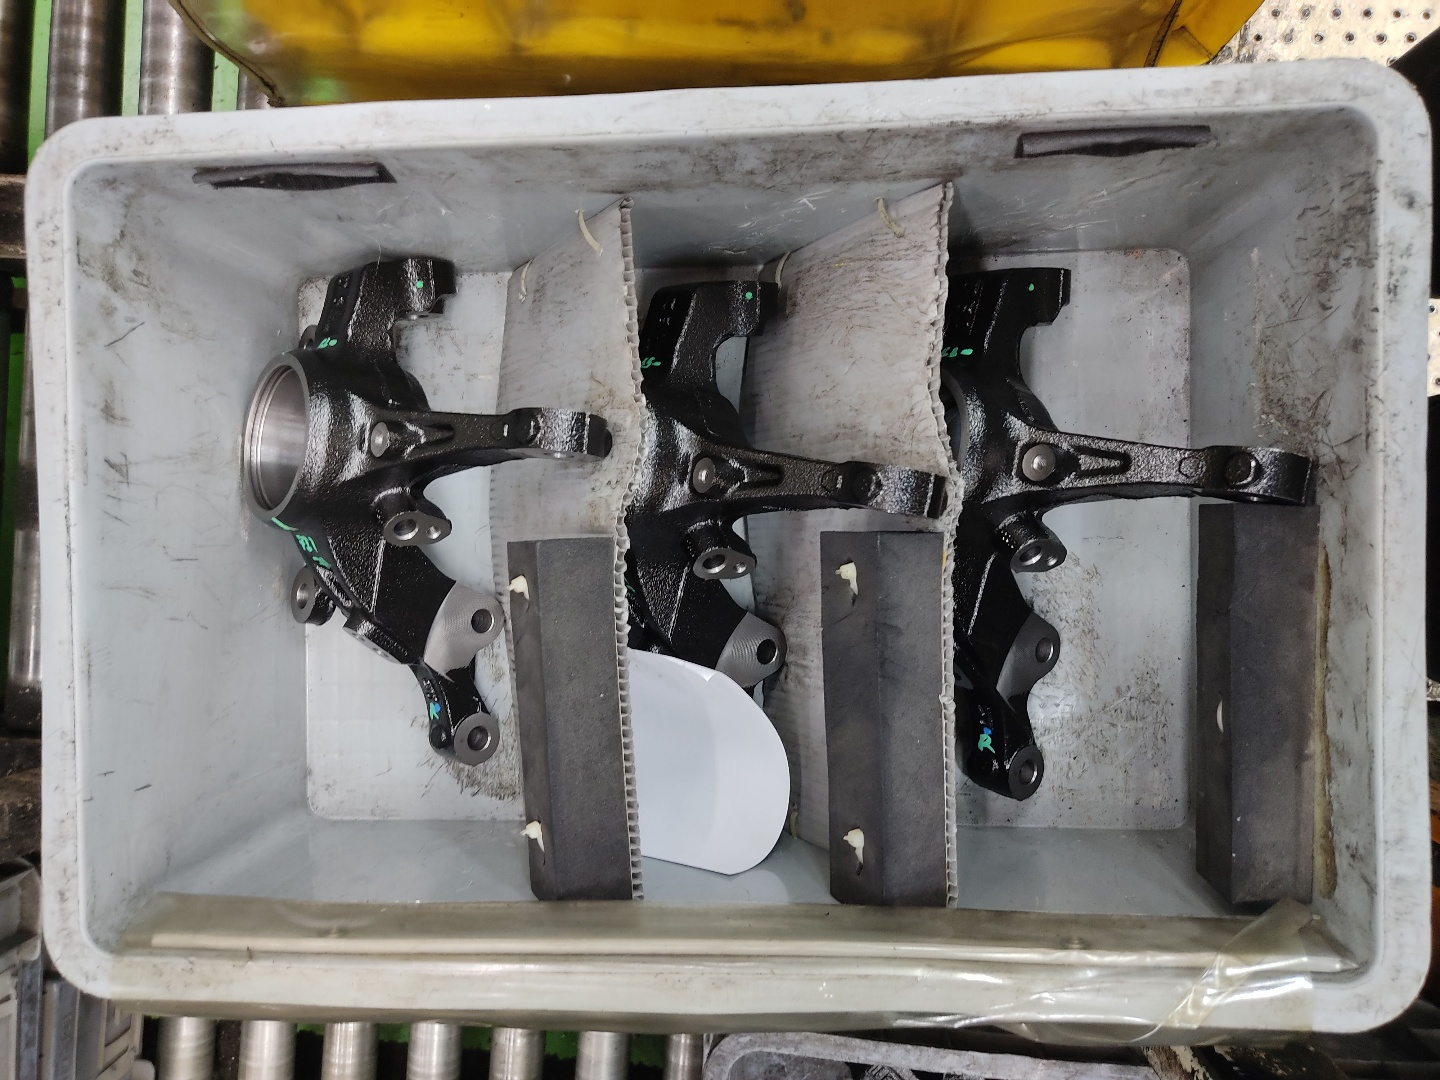abs-rh: (226, 250, 622, 781), (943, 253, 1310, 810), (624, 264, 954, 813)
